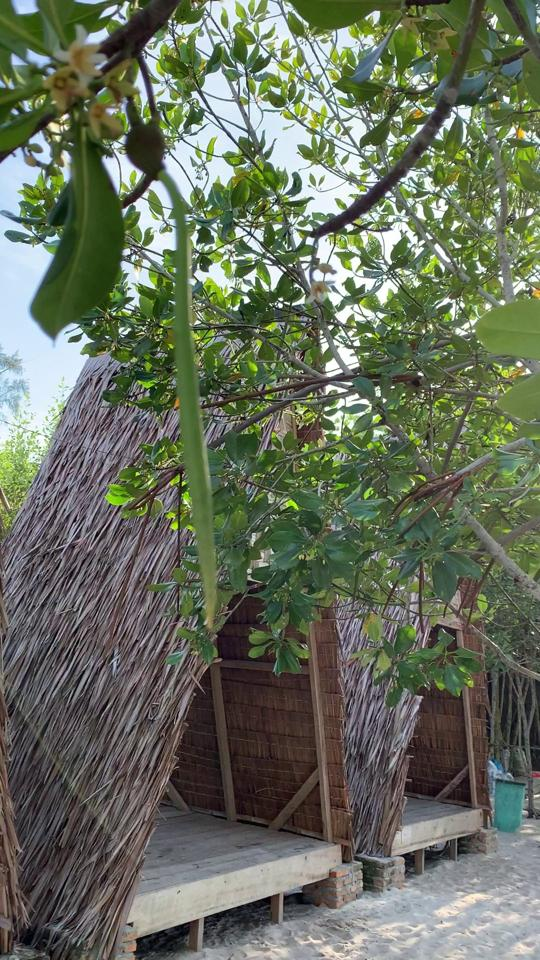mentah: (116, 112, 234, 644)
